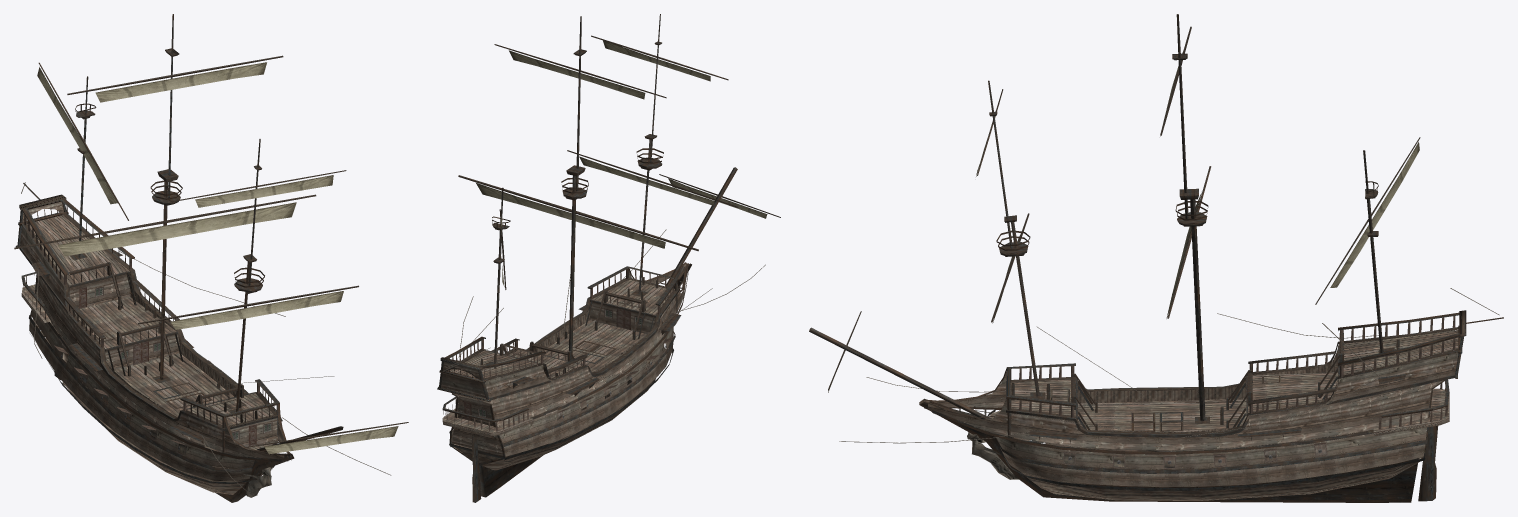
Rendered from Galleon_LOD2.fbx.
3 renders of one model, left to right at view 1: azimuth 30°, elevation 25°; view 2: azimuth 150°, elevation 25°; view 3: azimuth 270°, elevation 25°, orthographic. The views are drawn at different scales.
Visible parts, largest first — view 1: burty, sails_close, polySurface2092, poklad, maszty1, sails_close1, polySurface1953, barierki, okna_drzwi, polySurface974, polySurface274, parapety (+4 smaller); view 2: burty, polySurface2092, maszty1, poklad, sails_close, polySurface1953, polySurface974, barierki, sails_close1, okna_drzwi, lines2, parapety (+4 smaller); view 3: burty, polySurface2092, poklad, maszty1, polySurface974, polySurface1953, polySurface274, barierki, sails_close, inside4, lines2, polySurface1891 (+1 smaller).
Boxes of the visible parts, x1,y1,x2,y2 form: burty: [20, 201, 291, 480]; sails_close: [37, 62, 398, 454]; polySurface2092: [15, 194, 290, 483]; poklad: [21, 215, 276, 450]; maszty1: [14, 14, 408, 451]; sails_close1: [38, 63, 396, 452]; polySurface1953: [36, 328, 263, 494]; barierki: [23, 206, 274, 425]; okna_drzwi: [79, 286, 272, 446]; polySurface974: [58, 333, 294, 502]; polySurface274: [69, 274, 244, 421]; parapety: [31, 248, 282, 443]; burty: [441, 263, 688, 456]; polySurface2092: [437, 262, 688, 465]; maszty1: [443, 14, 780, 371]; poklad: [442, 279, 672, 436]; sails_close: [476, 40, 767, 286]; polySurface1953: [453, 347, 665, 470]; polySurface974: [478, 262, 691, 497]; barierki: [443, 270, 673, 431]; sails_close1: [476, 41, 766, 280]; okna_drzwi: [464, 308, 642, 420]; lines2: [446, 229, 765, 379]; parapety: [457, 305, 681, 396]; burty: [924, 330, 1458, 487]; polySurface2092: [924, 310, 1466, 490]; poklad: [989, 330, 1458, 435]; maszty1: [809, 14, 1503, 420]; polySurface974: [919, 398, 1421, 502]; polySurface1953: [1021, 431, 1423, 500]; polySurface274: [1078, 349, 1338, 432]; barierki: [1006, 316, 1455, 429]; sails_close: [828, 66, 1419, 392]; inside4: [1045, 400, 1334, 467]; lines2: [839, 288, 1499, 443]; polySurface1891: [1418, 425, 1438, 501].
Size of the model in its own units: 31.83 by 48.29 by 62.42.
Materials: 8 (8 with a texture image).
